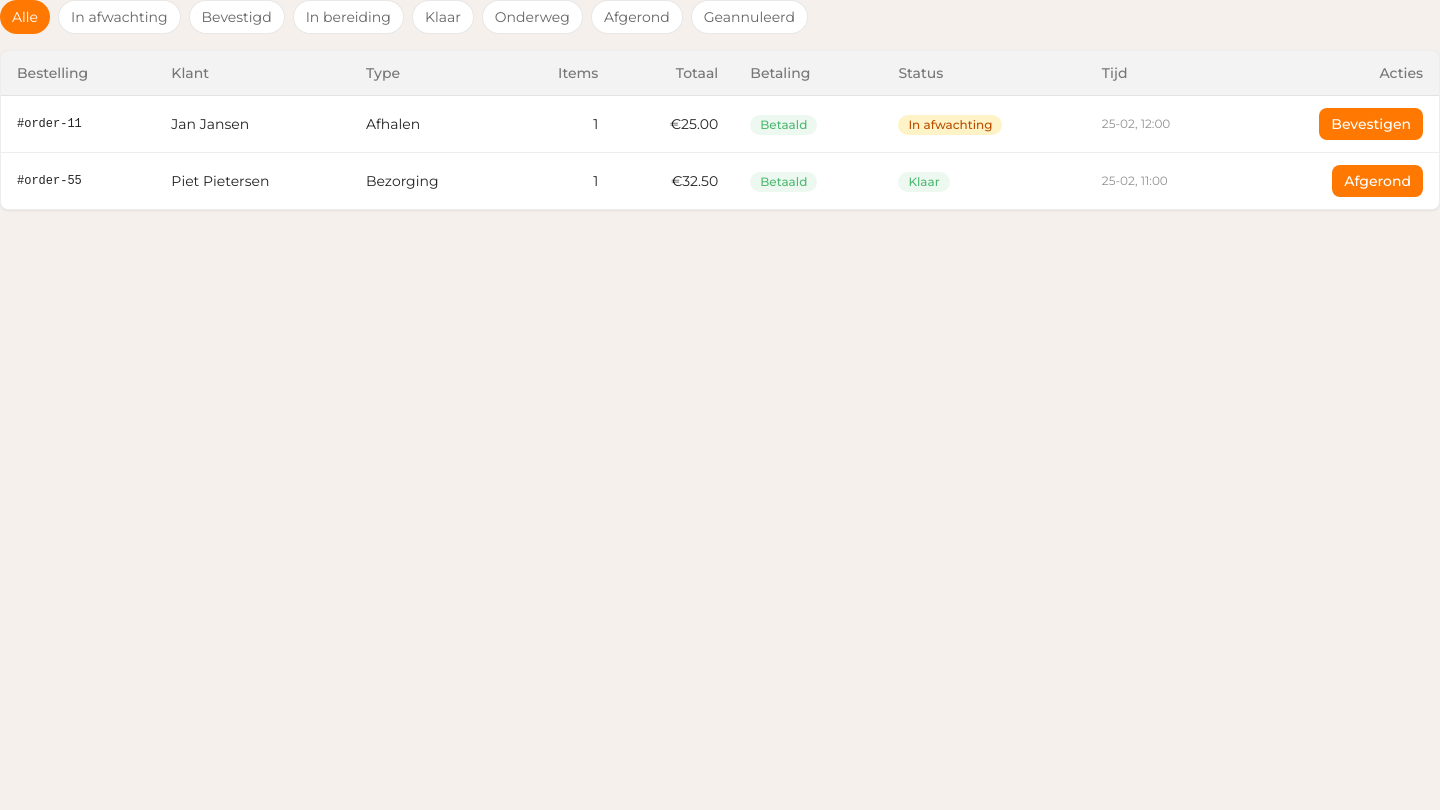
Test case: OrderList › opens detail modal on row click
This screenshot has width=1440, height=810.
// Click on the customer name row
Click the text "Jan Jansen" at (210, 124), box [155, 96, 350, 152]
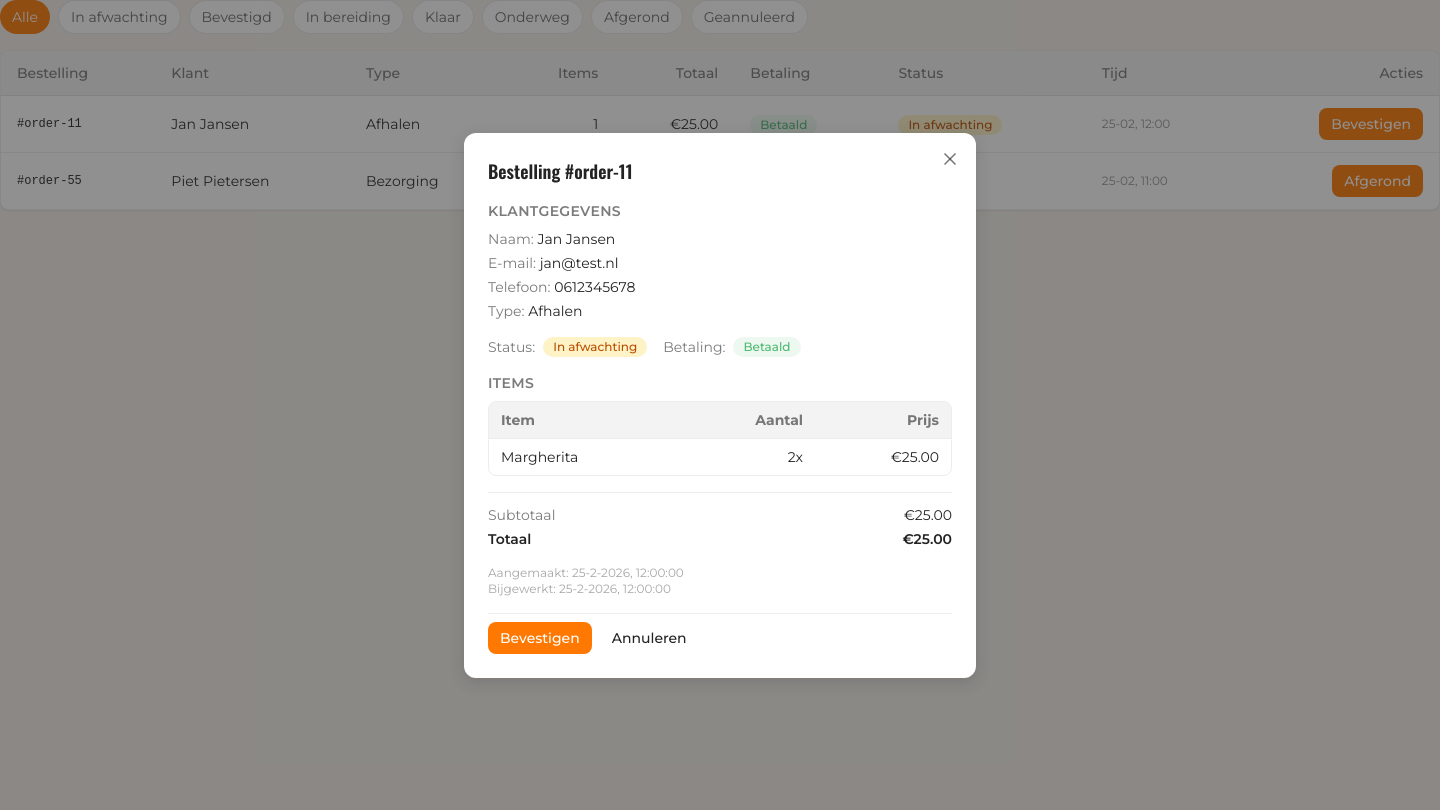
Expected: the heading "Klantgegevens" is shown, [488, 202, 621, 220]
